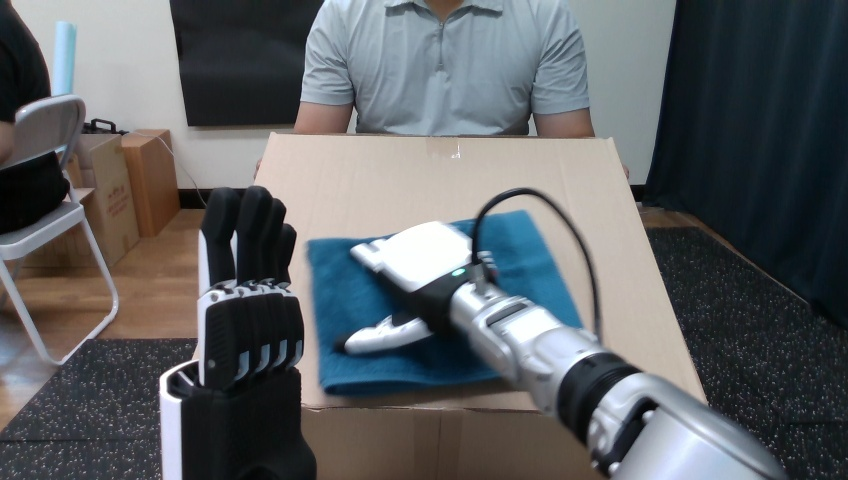left robot hand: (338, 210, 785, 478), (159, 186, 315, 478)
